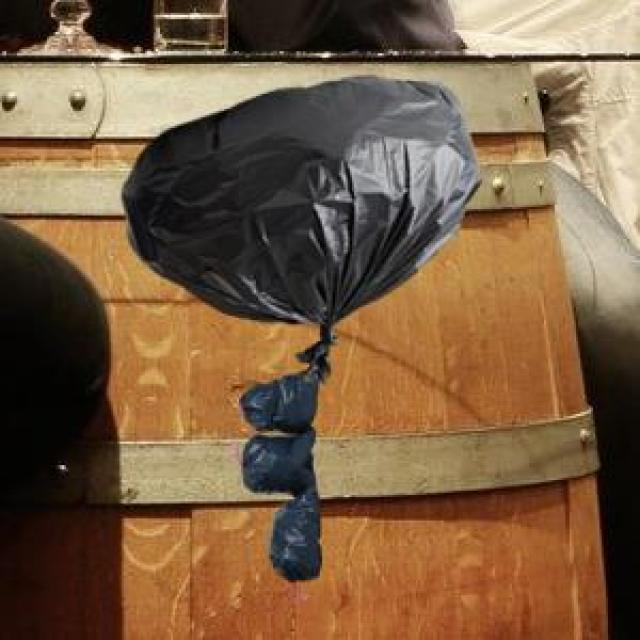miscellaneous trash: (117, 73, 478, 380), (235, 367, 318, 578)
